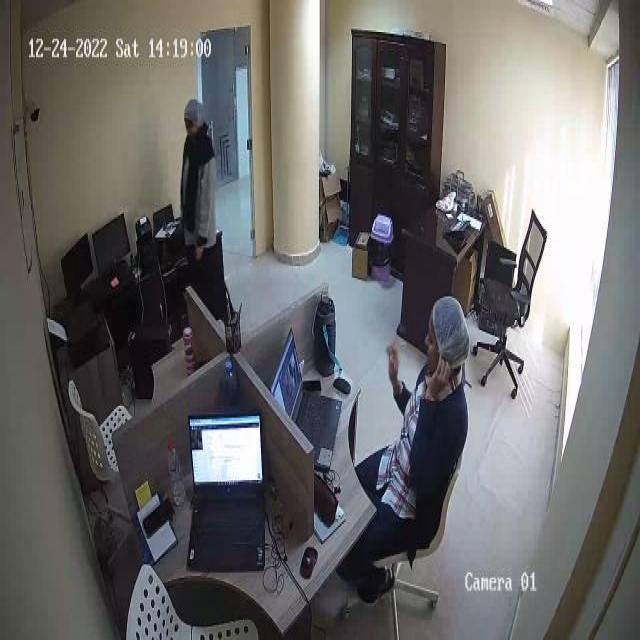hairnet: (434, 295, 472, 366), (185, 96, 204, 128)
